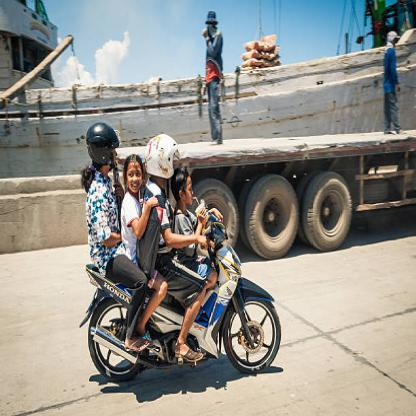Motorcycle: (76, 231, 283, 396)
